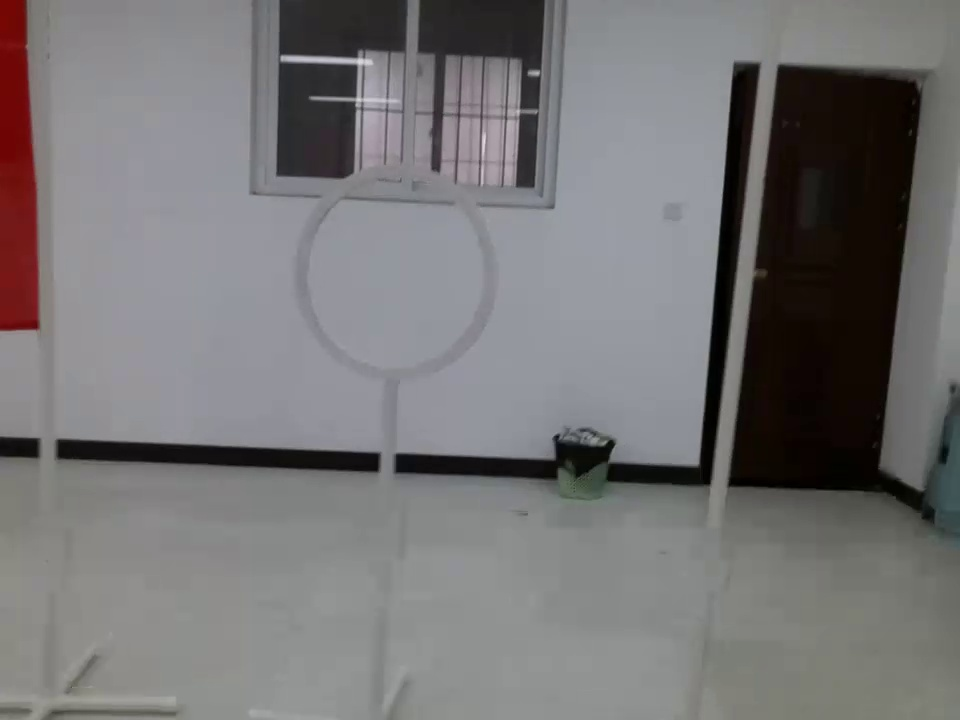gan: (666, 3, 793, 693)
qi: (2, 1, 63, 432)
quan: (283, 162, 500, 400)
